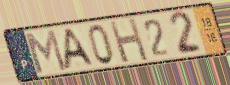0: (86, 22, 116, 67)
2: (168, 10, 204, 58), (143, 17, 171, 58)
A: (62, 27, 97, 72)
H: (107, 16, 151, 65)
M: (21, 28, 69, 75)
